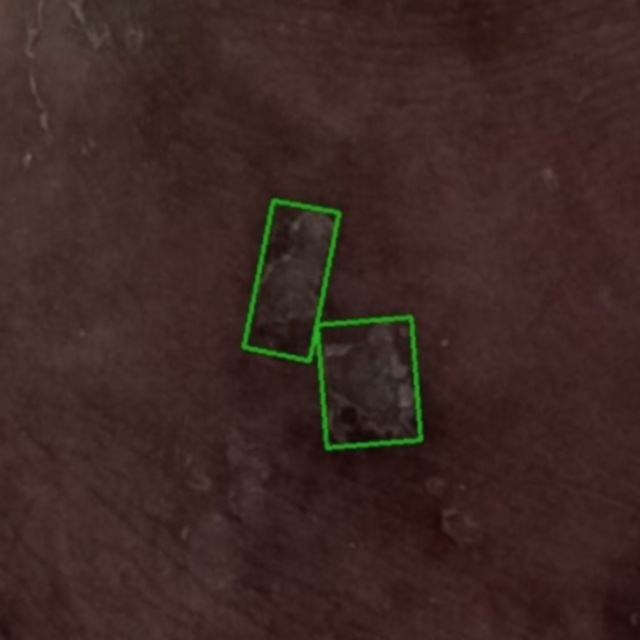Eczema: (244, 200, 339, 361), (317, 317, 421, 448)
